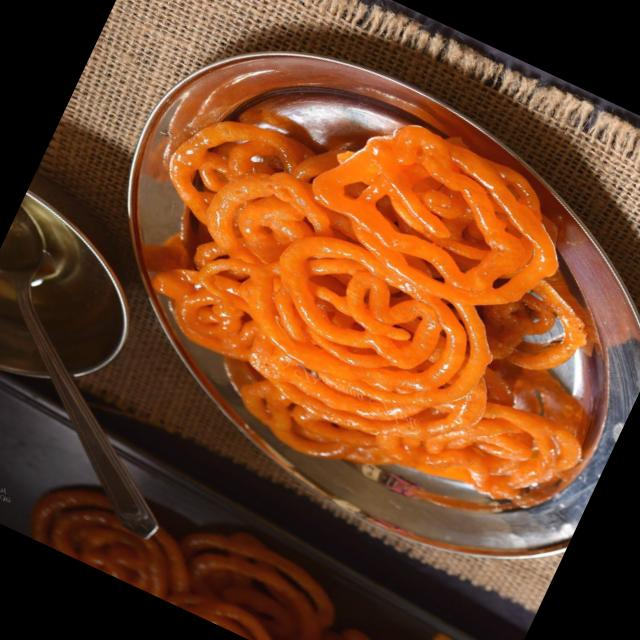jalebi: (88, 11, 640, 570), (26, 451, 509, 640)
